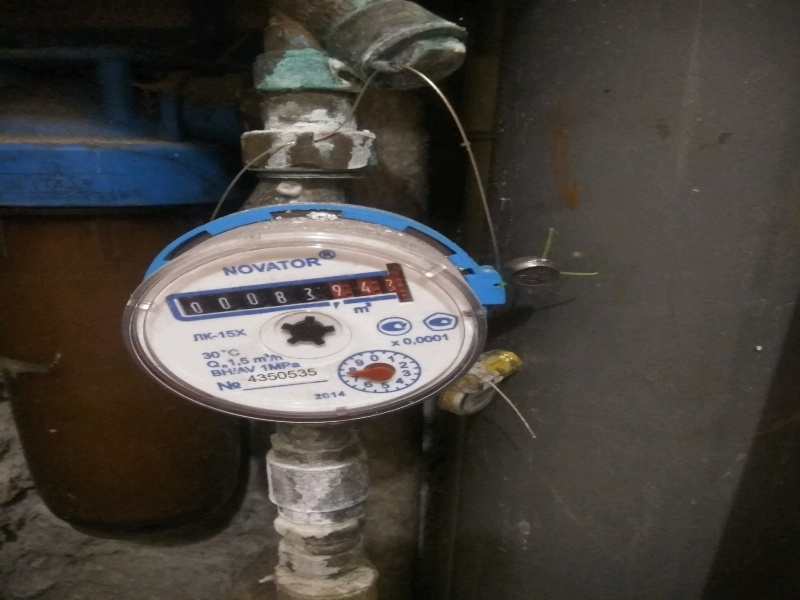meter: (167, 271, 413, 316)
